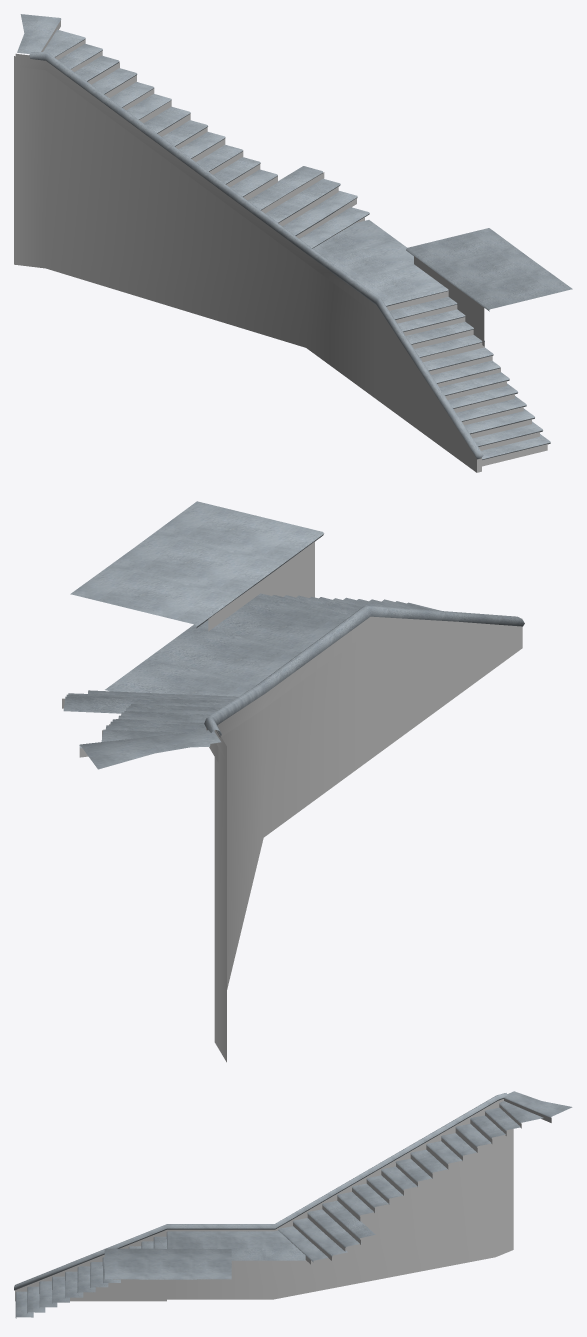
Rendered from yuanfanglouti.FBX.
3 views of the same model, one above another, from view 1: azimuth 30°, elevation 25°; view 2: azimuth 150°, elevation 25°; view 3: azimuth 270°, elevation 25° (orthographic). The views are drawn at different scales.
Visible parts, largest first — view 1: yuanfanglouti_03, yuanfanglouti_01, yuanfanglouti_02, yuanfanglouti_04; view 2: yuanfanglouti_01, yuanfanglouti_03, yuanfanglouti_02; view 3: yuanfanglouti_01, yuanfanglouti_03, yuanfanglouti_02, yuanfanglouti_04.
Part boxes in pixels (x1,y1,x2,y2): yuanfanglouti_03: (14,66,484,456); yuanfanglouti_01: (17,14,572,459); yuanfanglouti_02: (14,53,484,472); yuanfanglouti_04: (41,20,547,466); yuanfanglouti_01: (63,501,524,769); yuanfanglouti_03: (214,556,511,1046); yuanfanglouti_02: (206,541,522,1062); yuanfanglouti_01: (14,1091,572,1318); yuanfanglouti_03: (95,1129,513,1291); yuanfanglouti_02: (15,1099,513,1301); yuanfanglouti_04: (288,1098,551,1264).
Bounding box in the file's own units: 8.71 × 6.19 × 19.22.
